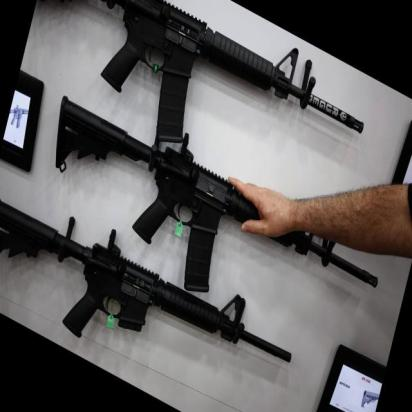Gun: (53, 94, 378, 290), (0, 199, 290, 369), (98, 1, 366, 135)
